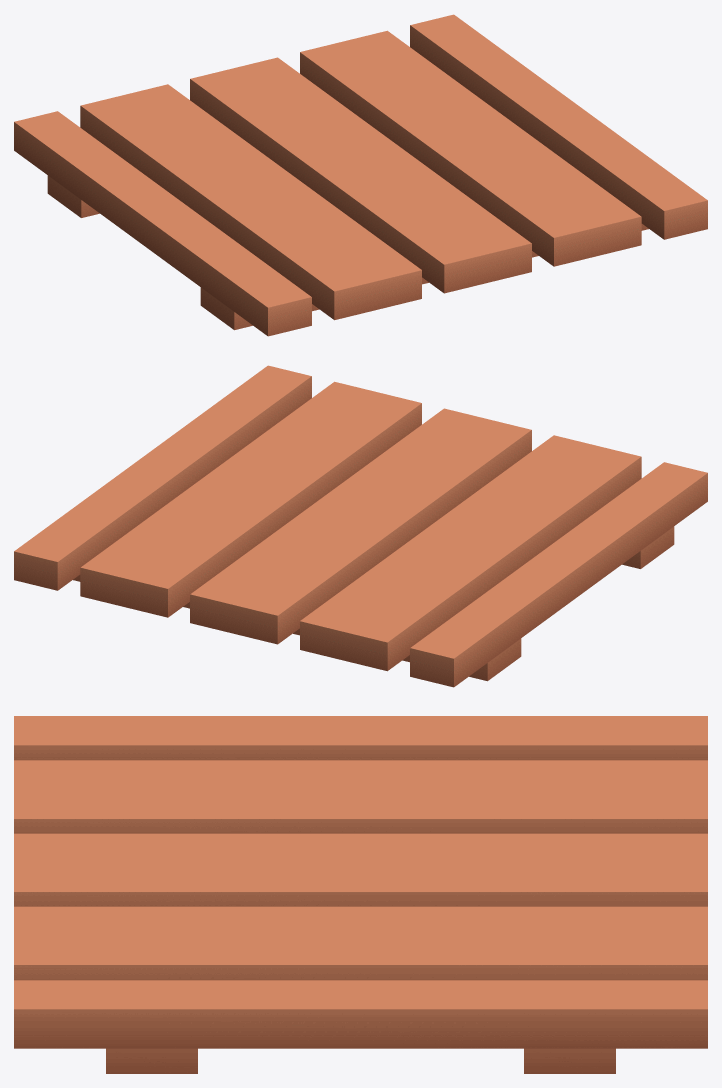
File: floor.glb
3 views of the same model, one above another, from view 1: azimuth 30°, elevation 25°; view 2: azimuth 150°, elevation 25°; view 3: azimuth 270°, elevation 25° (orthographic). The views are drawn at different scales.
Visible parts, largest first — view 1: floor; view 2: floor; view 3: floor.
Part boxes in pixels (box(x1,y1,x2,y2)): floor: box(14, 14, 707, 336); floor: box(14, 365, 707, 687); floor: box(14, 716, 707, 1073).
Size of the model in its own units: 0.5 by 0.0512 by 0.5.
1 material, 1 textured.
